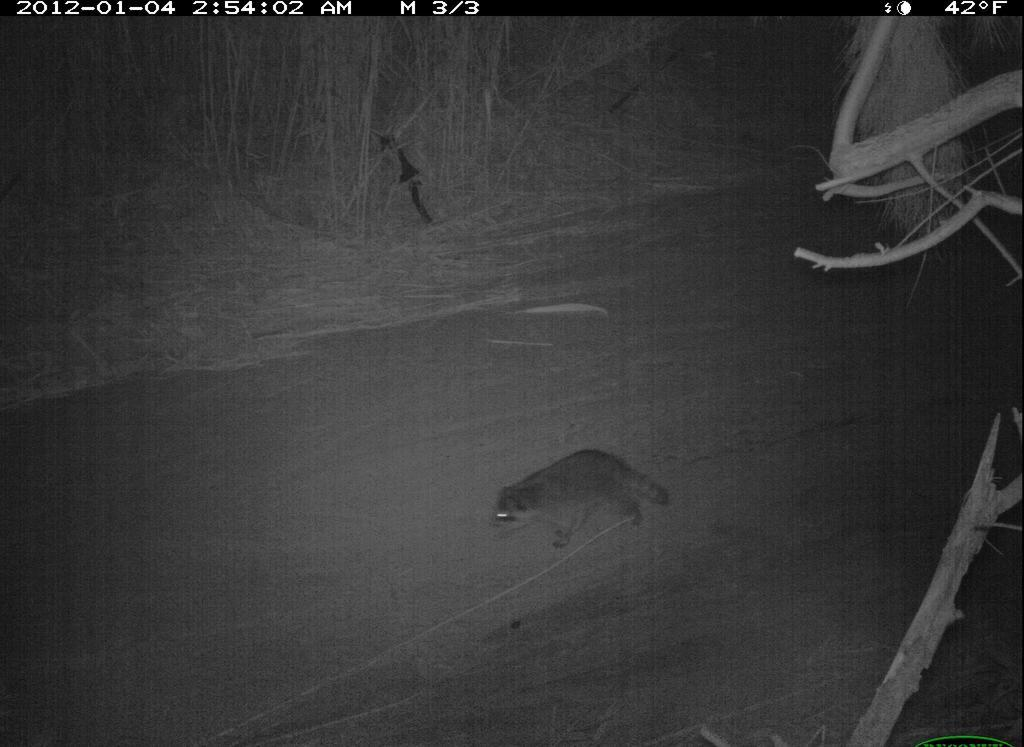raccoon: (488, 442, 676, 555)
